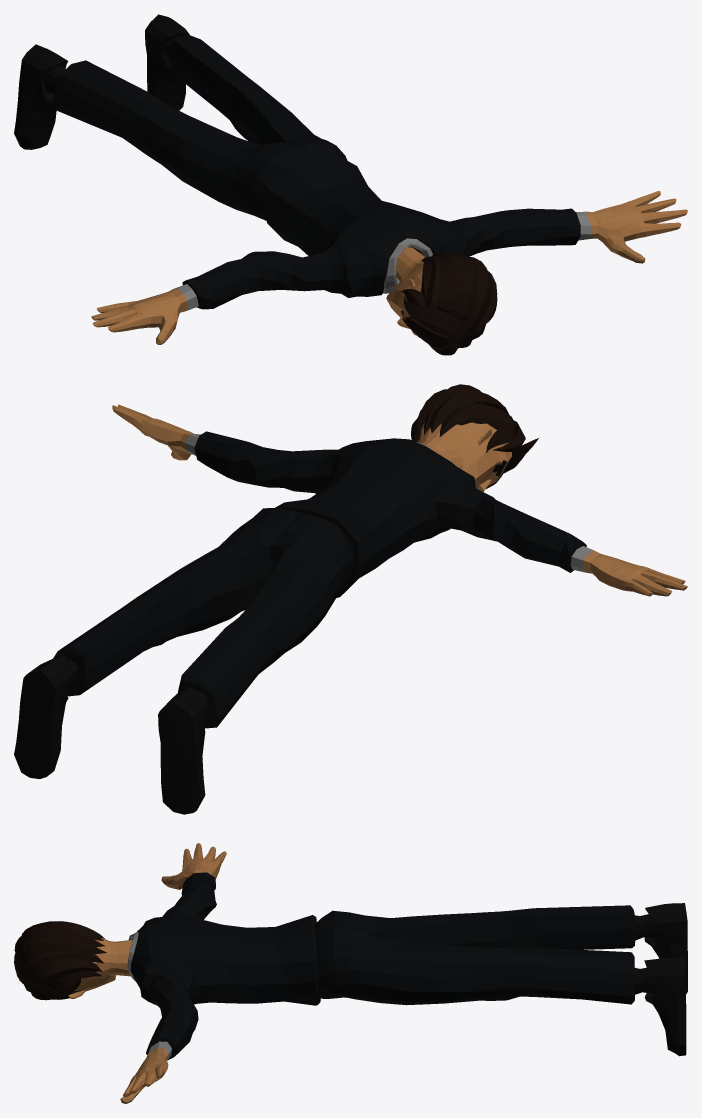
File: 21044_autosave.obj
The picture shows the model from 3 angles, top to bottom: view 1: azimuth 30°, elevation 25°; view 2: azimuth 150°, elevation 25°; view 3: azimuth 270°, elevation 25°; orthographic projection. The views are drawn at different scales.
Parts seen in each view (by area): view 1: Suit_Body, Suit_Legs, Suit_Head, Suit_Feet; view 2: Suit_Body, Suit_Legs, Suit_Feet, Suit_Head; view 3: Suit_Legs, Suit_Body, Suit_Head, Suit_Feet.
Part boxes in pixels (left/top/right/bottom): Suit_Body: left=91, top=156, right=687, bottom=344; Suit_Legs: left=52, top=35, right=347, bottom=220; Suit_Head: left=386, top=247, right=497, bottom=355; Suit_Feet: left=14, top=14, right=189, bottom=149; Suit_Body: left=112, top=404, right=687, bottom=597; Suit_Legs: left=53, top=507, right=355, bottom=728; Suit_Feet: left=14, top=655, right=209, bottom=814; Suit_Head: left=411, top=384, right=538, bottom=491; Suit_Legs: left=315, top=905, right=635, bottom=1005; Suit_Body: left=120, top=843, right=320, bottom=1103; Suit_Head: left=14, top=921, right=132, bottom=1000; Suit_Feet: left=634, top=903, right=687, bottom=1056.
Bounding box in the file's own units: 1.66 × 0.3364 × 1.88.
